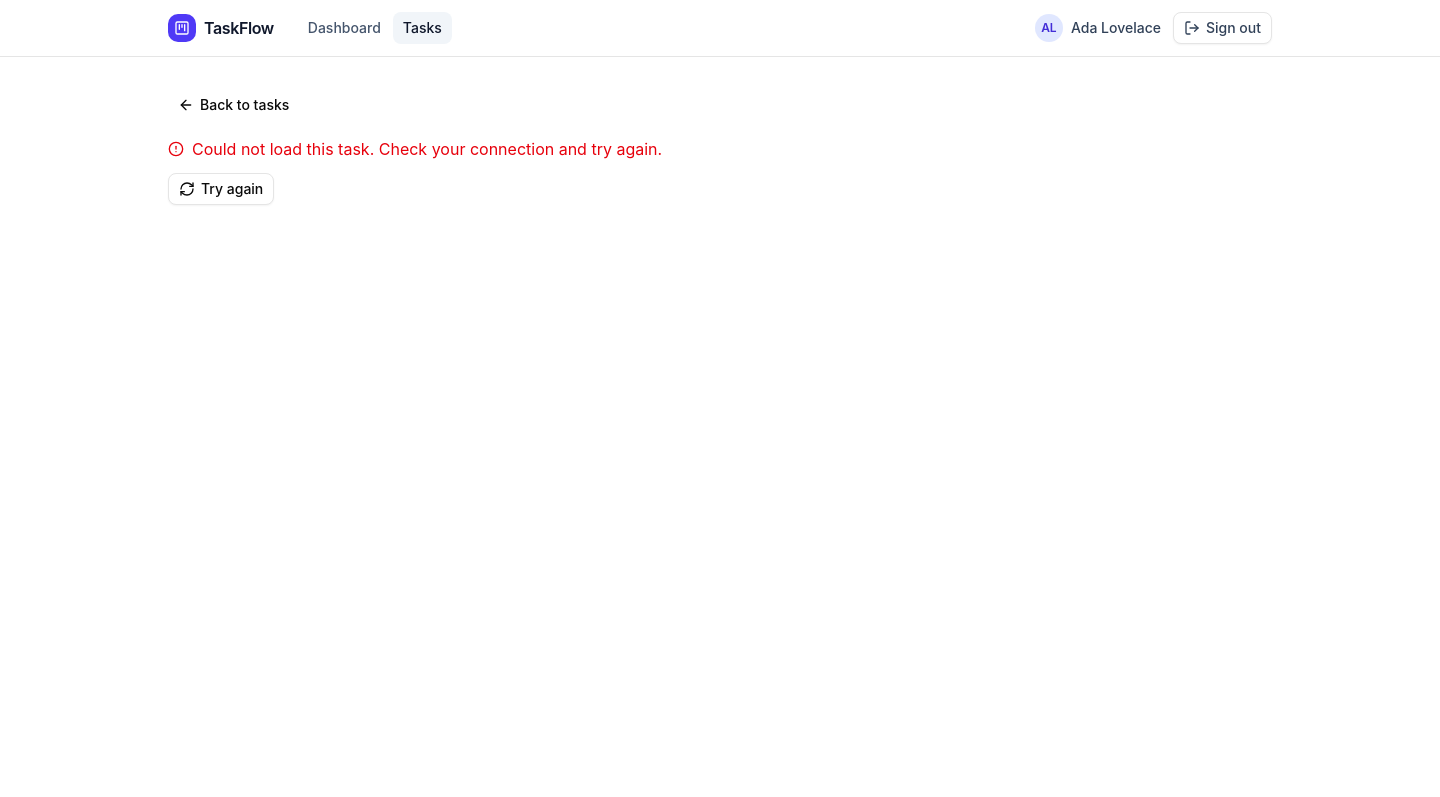
Test: task detail page › shows a retryable error for a server error
Check: the message shows "Could not load this task", box [192,139,662,159]
Click the button "Try again" at (221, 189), box [168,173,274,205]
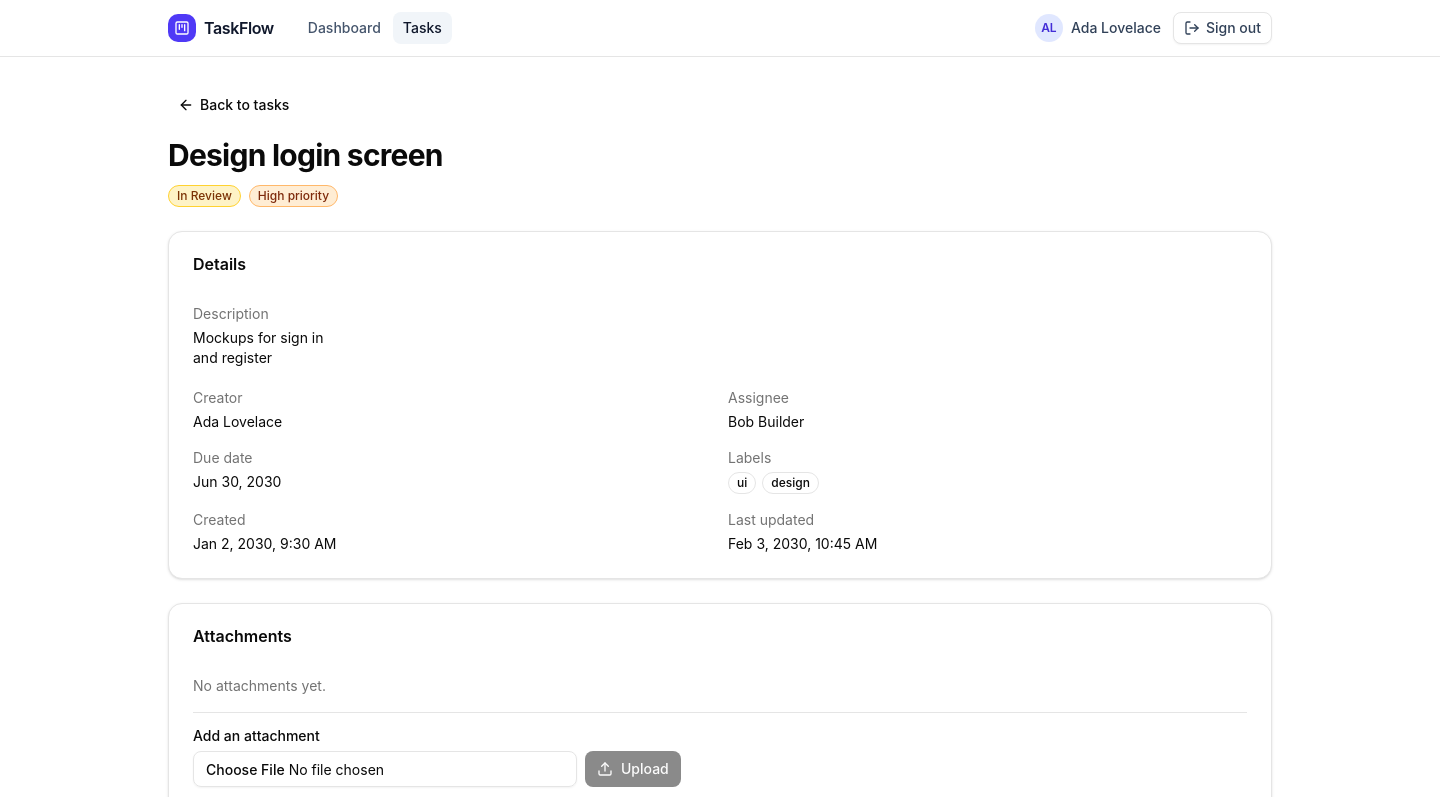
Check: the heading "Design login screen" is shown, box [168,137,443,173]
Check: the message "Could not load this task. Check your connection and try again." is gone
